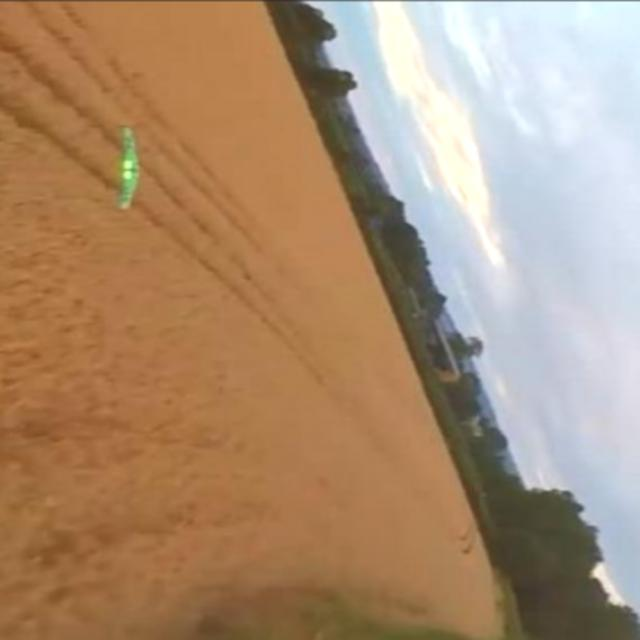plane: (114, 124, 144, 211)
